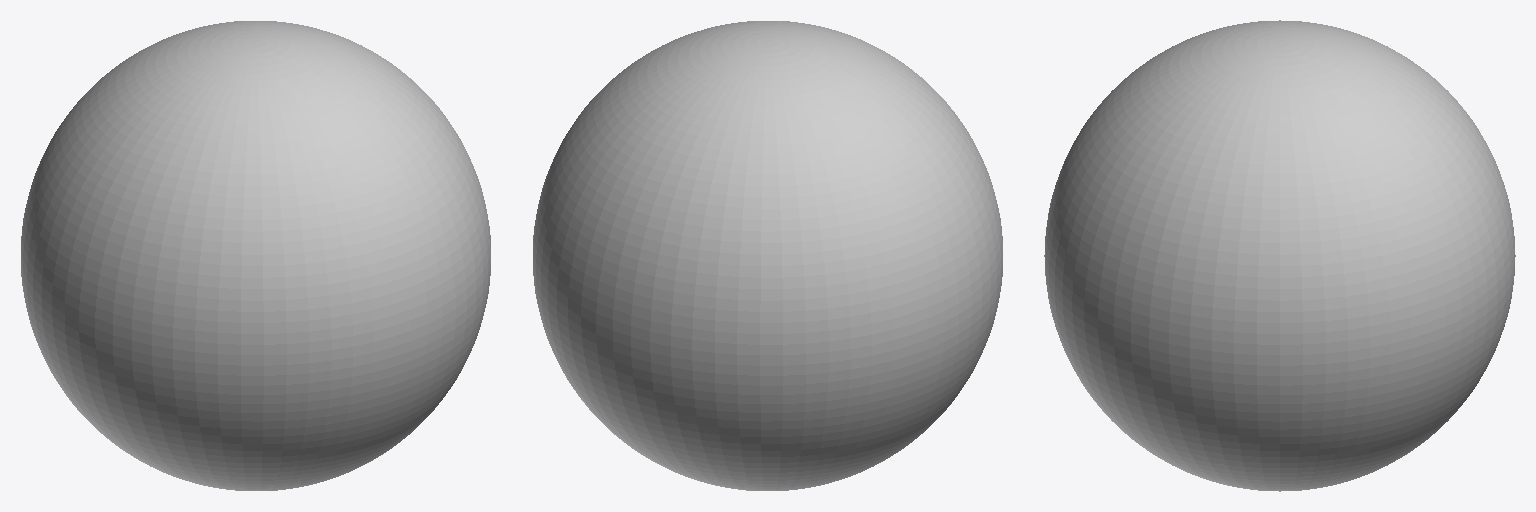
The model's file is CornellLeftSphere.obj.
3 renders of one model, left to right at view 1: azimuth 30°, elevation 25°; view 2: azimuth 150°, elevation 25°; view 3: azimuth 270°, elevation 25°, orthographic.
Bounding box in the file's own units: 180 × 180 × 180.